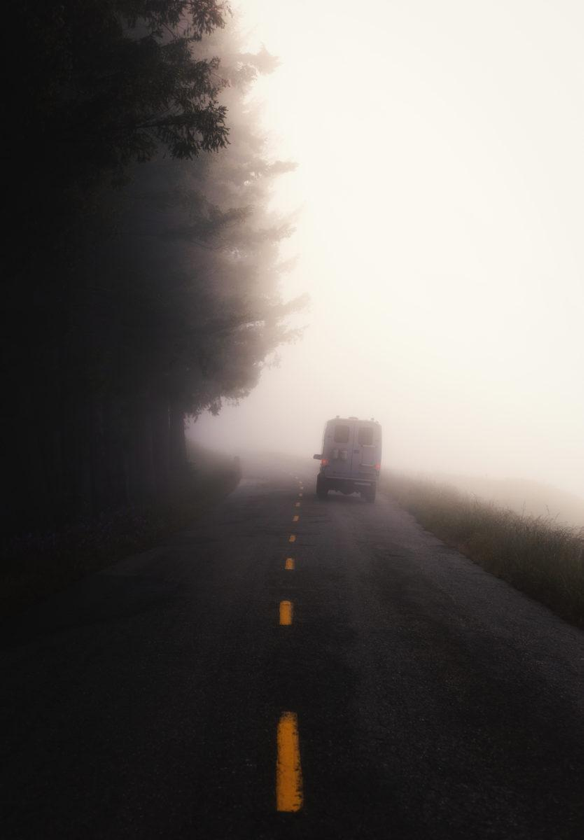car: (312, 414, 385, 503)
